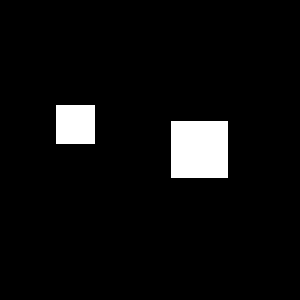circle: (171, 121, 228, 178), (56, 105, 95, 144)
